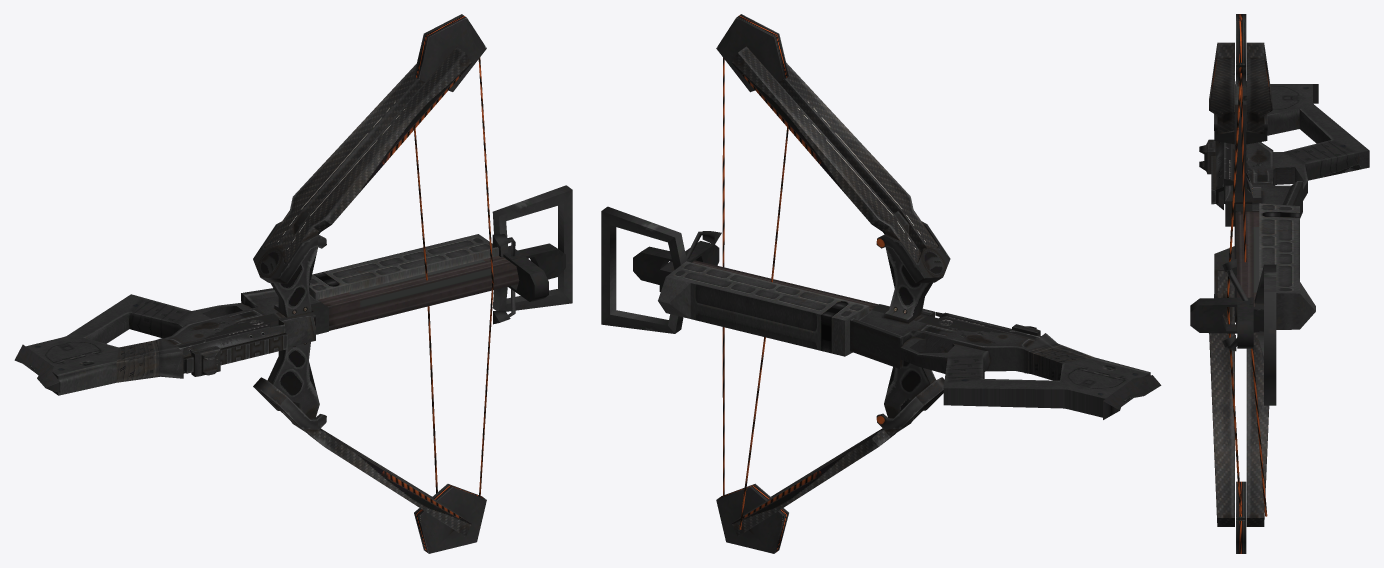
The model's file is t6_wpn_crossbow_world_LOD1.obj.
The picture shows the model from 3 angles, left to right: view 1: azimuth 30°, elevation 25°; view 2: azimuth 150°, elevation 25°; view 3: azimuth 270°, elevation 25°; orthographic projection.
Parts seen in each view (by area): view 1: mtl_t6_wpn_crossbow, mtl_t6_wpn_crossbow_camo1, mtl_t6_wpn_crossbow_camo2, mtl_t6_wpn_crossbow_camo3; view 2: mtl_t6_wpn_crossbow, mtl_t6_wpn_crossbow_camo1, mtl_t6_wpn_crossbow_camo2, mtl_t6_wpn_crossbow_camo3; view 3: mtl_t6_wpn_crossbow_camo1, mtl_t6_wpn_crossbow, mtl_t6_wpn_crossbow_camo2, mtl_t6_wpn_crossbow_camo3.
Boxes of the visible parts, left/top/right/bottom form: mtl_t6_wpn_crossbow: left=26, top=14, right=528, bottom=553; mtl_t6_wpn_crossbow_camo1: left=116, top=47, right=572, bottom=522; mtl_t6_wpn_crossbow_camo2: left=14, top=53, right=499, bottom=536; mtl_t6_wpn_crossbow_camo3: left=129, top=221, right=328, bottom=429; mtl_t6_wpn_crossbow: left=659, top=14, right=1150, bottom=553; mtl_t6_wpn_crossbow_camo1: left=601, top=46, right=1093, bottom=529; mtl_t6_wpn_crossbow_camo2: left=658, top=53, right=1161, bottom=536; mtl_t6_wpn_crossbow_camo3: left=872, top=221, right=1007, bottom=429; mtl_t6_wpn_crossbow_camo1: left=1190, top=42, right=1315, bottom=526; mtl_t6_wpn_crossbow: left=1211, top=14, right=1369, bottom=553; mtl_t6_wpn_crossbow_camo2: left=1209, top=44, right=1318, bottom=522; mtl_t6_wpn_crossbow_camo3: left=1214, top=114, right=1368, bottom=297.
Bounding box in the file's own units: 73.33 × 68.31 × 21.06.
